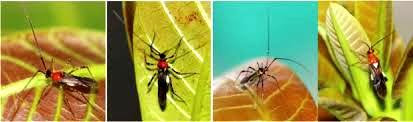Helopeltis-insect: (41, 67, 95, 95), (363, 47, 389, 101), (153, 44, 174, 110), (244, 60, 270, 87)
